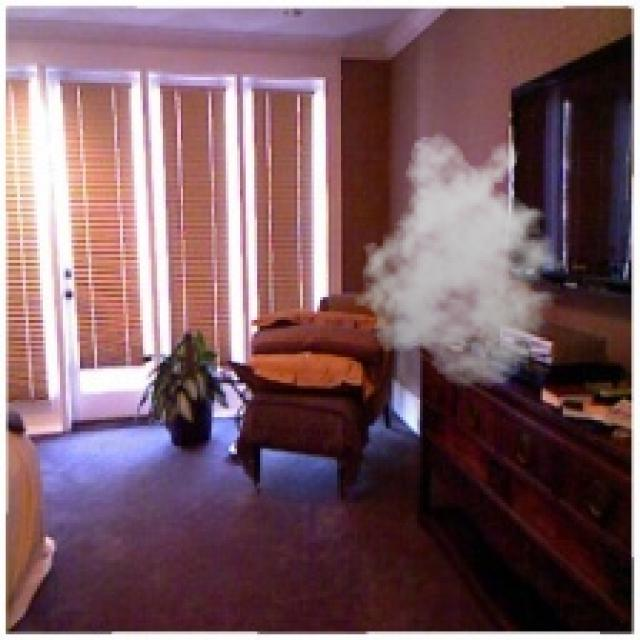smoke: (349, 132, 580, 388)
